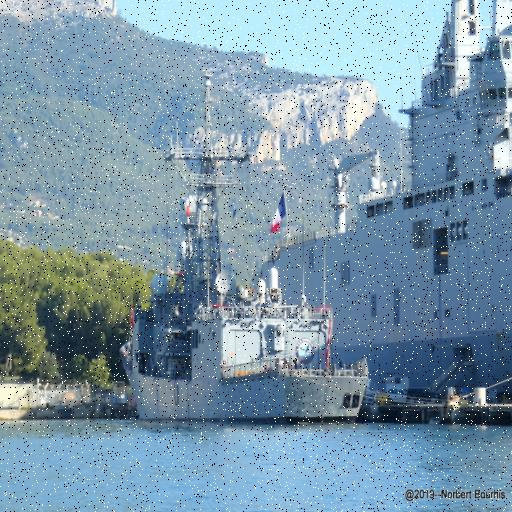Fragata: (123, 66, 373, 427)
